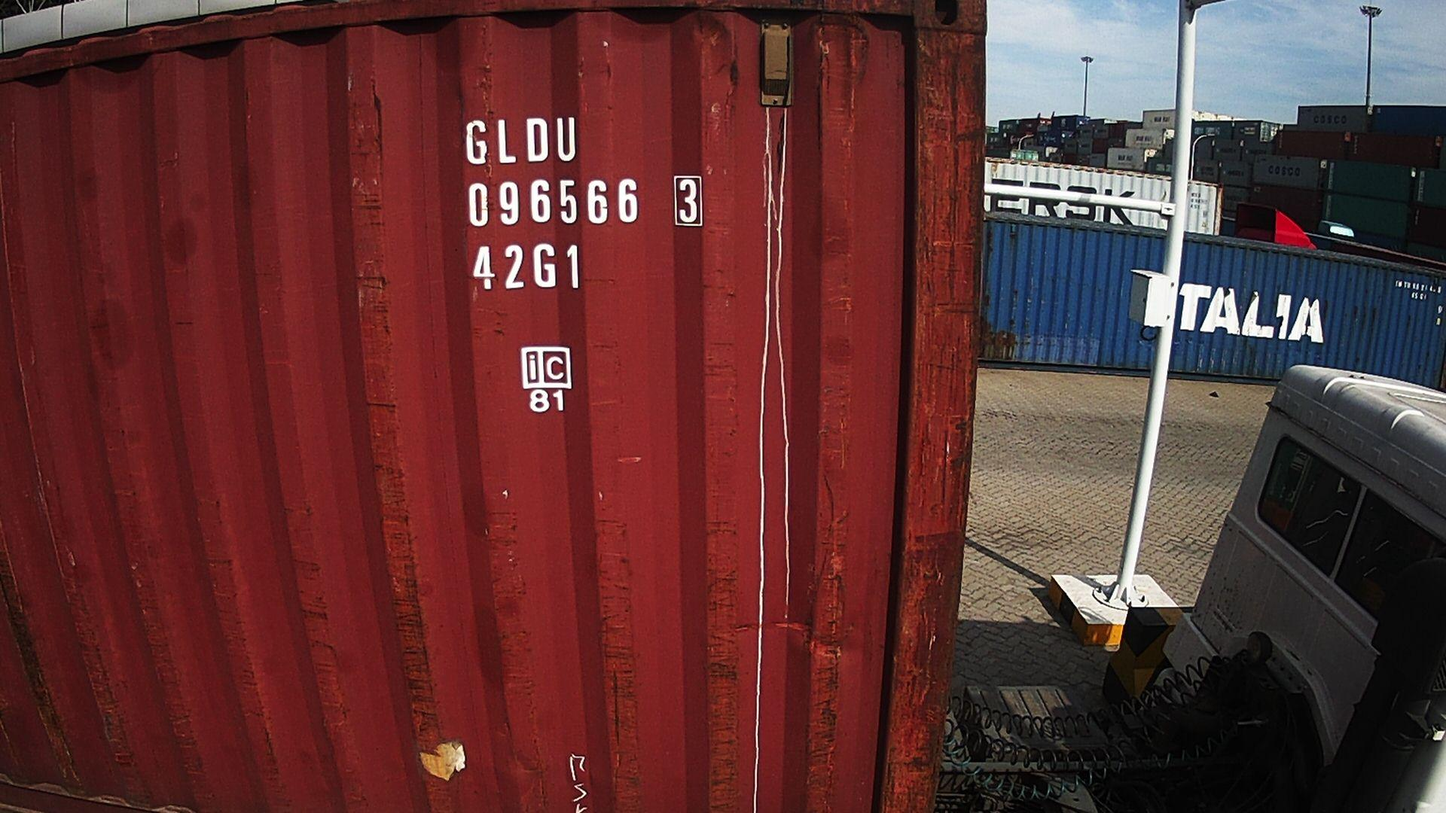container-numbers: (464, 172, 706, 231), (463, 113, 581, 169), (468, 240, 586, 295), (562, 748, 596, 812)
